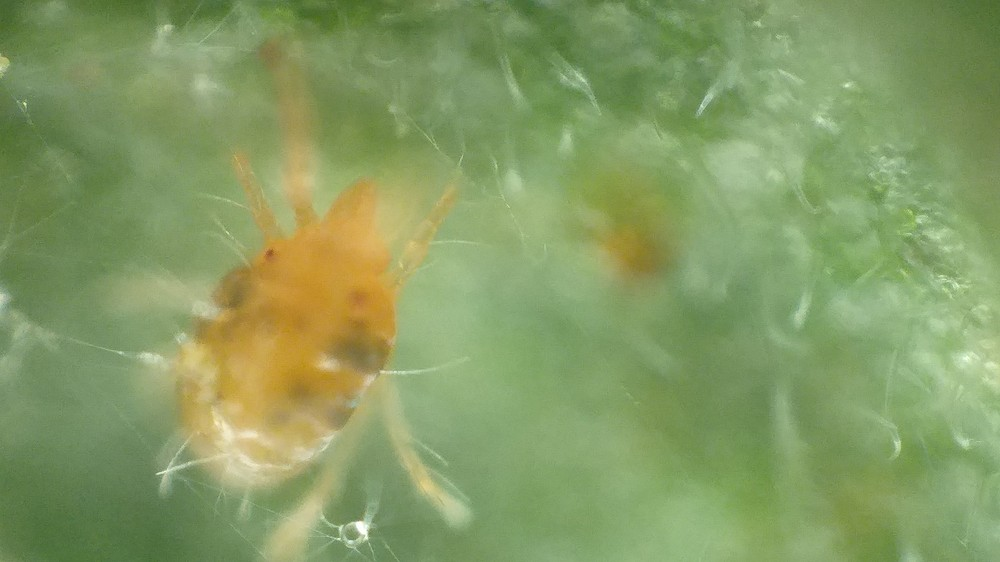Aracnido Rojo: (136, 58, 511, 554)
